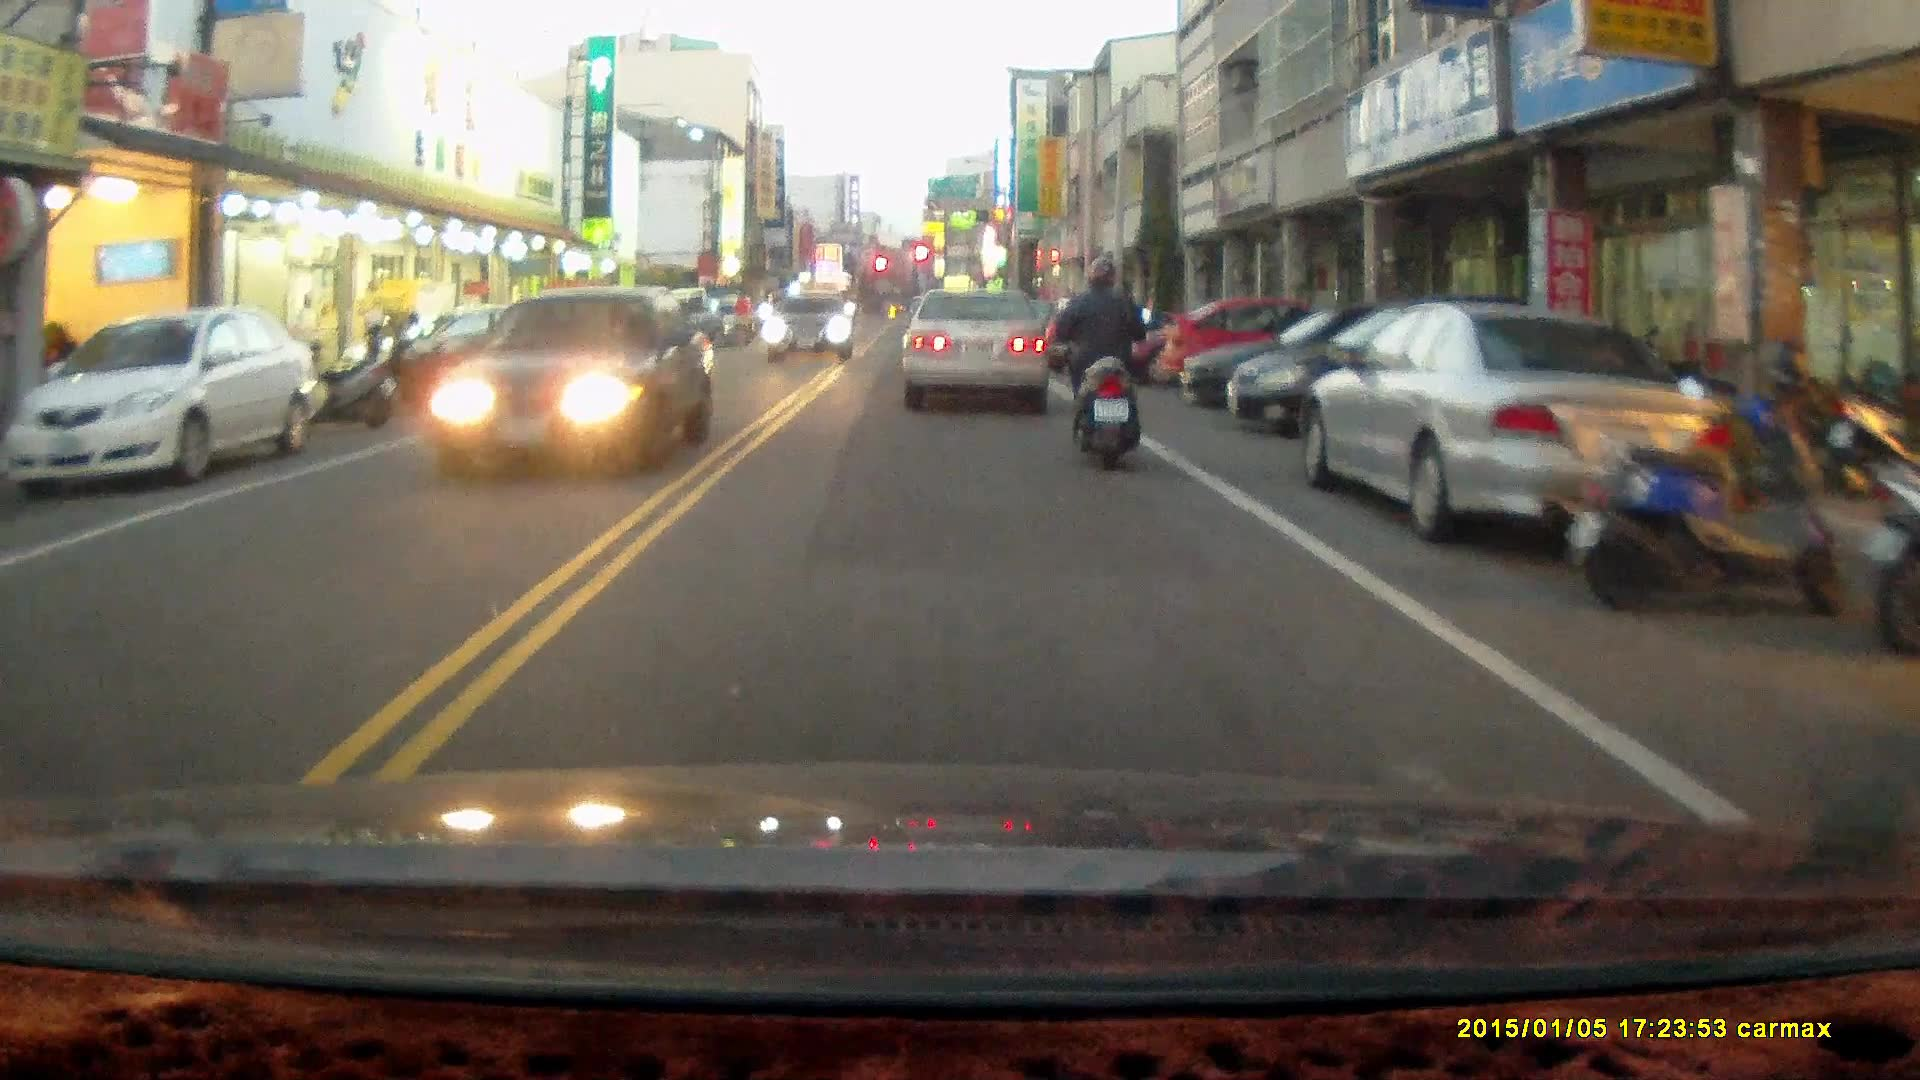pedestrian: (292, 291, 321, 365)
rider: (1049, 254, 1152, 464), (726, 287, 751, 349)
vehicle: (1304, 304, 1732, 547), (16, 300, 335, 485), (429, 289, 717, 480), (1223, 296, 1554, 443), (1173, 308, 1507, 412), (1157, 297, 1404, 394), (900, 288, 1052, 406), (760, 296, 855, 366)
